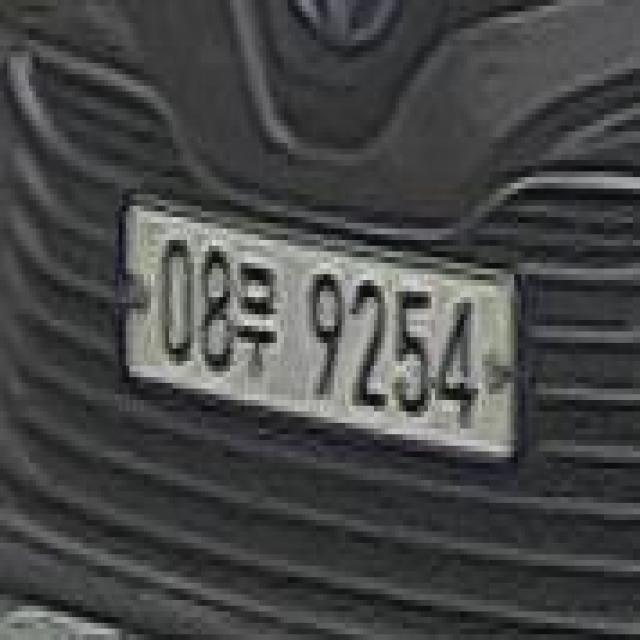illegal_plate: (120, 185, 522, 488)
